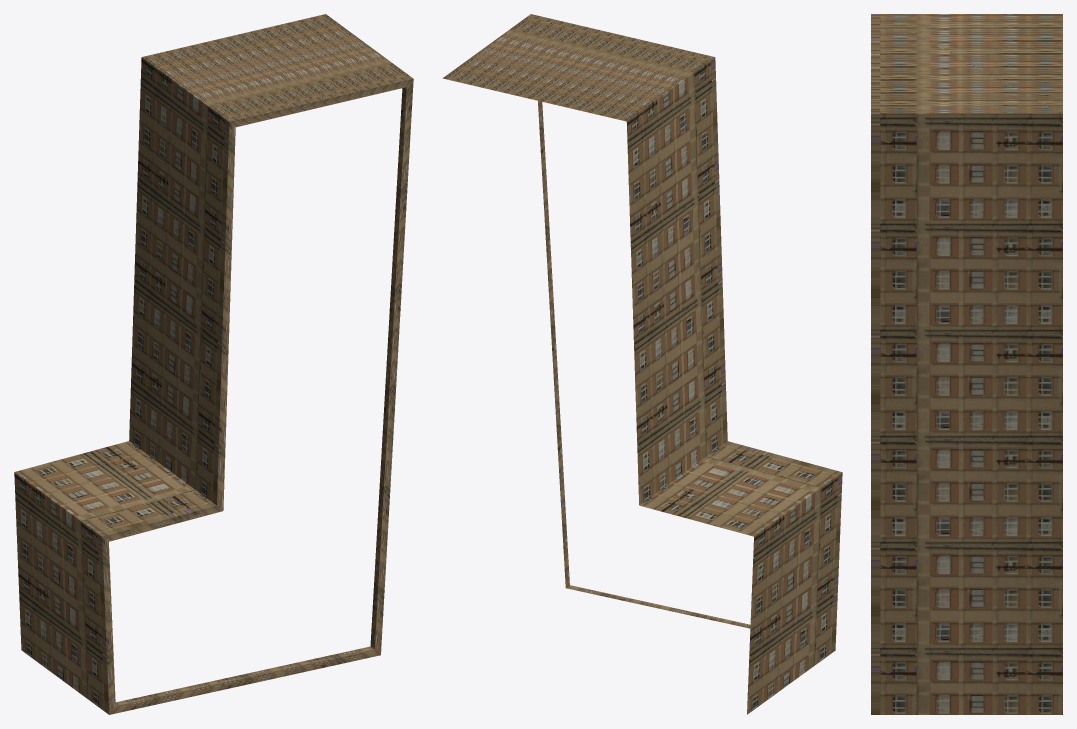
File: tile_facade_379.glb
3 views of the same model, side by side, from view 1: azimuth 30°, elevation 25°; view 2: azimuth 150°, elevation 25°; view 3: azimuth 270°, elevation 25° (orthographic). The views are drawn at different scales.
Bounding box in the file's own units: 42.9 × 74.95 × 21.
Materials: 1 (1 with a texture image).
